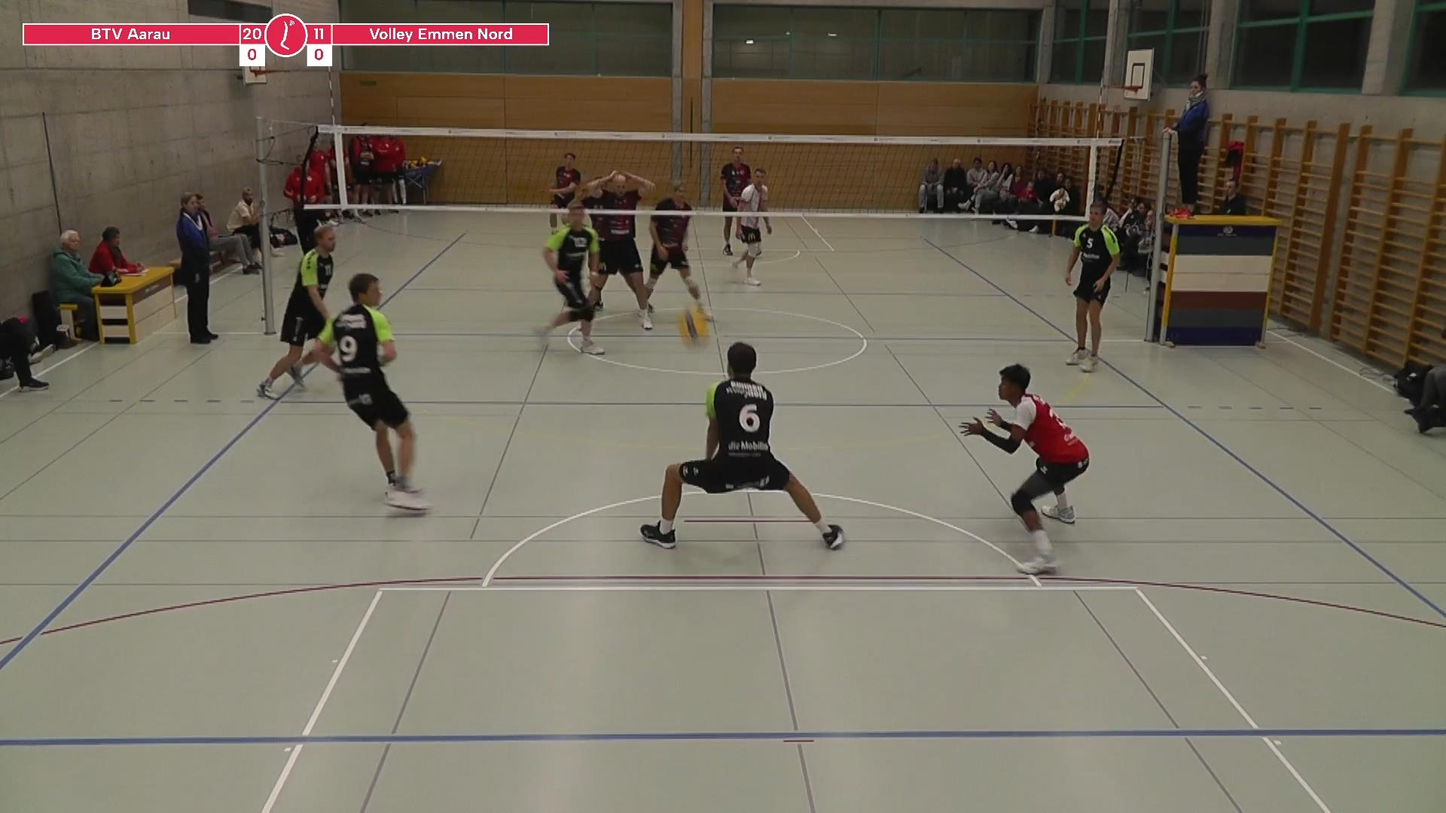Player: (316, 273, 430, 511), (961, 364, 1088, 574), (258, 225, 337, 399), (538, 200, 603, 355), (1066, 201, 1120, 372), (645, 181, 710, 318), (590, 214, 652, 329), (731, 168, 772, 285), (721, 146, 750, 212), (548, 152, 581, 209)
Receive: (631, 340, 854, 552)
ball: (670, 307, 714, 349)
